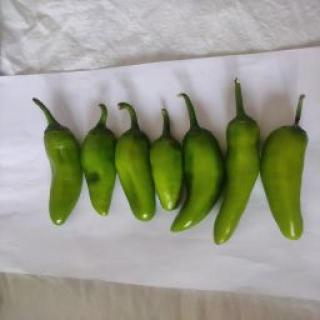Cabai Hijau: (30, 76, 315, 246)
